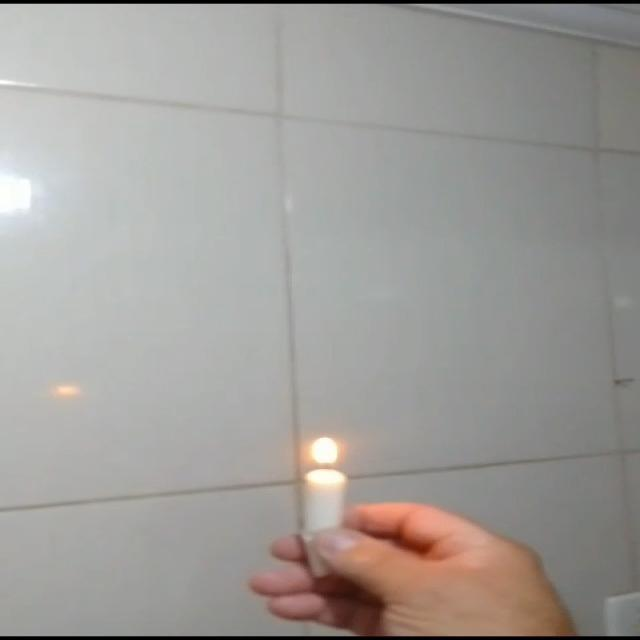fire: (306, 430, 344, 469)
